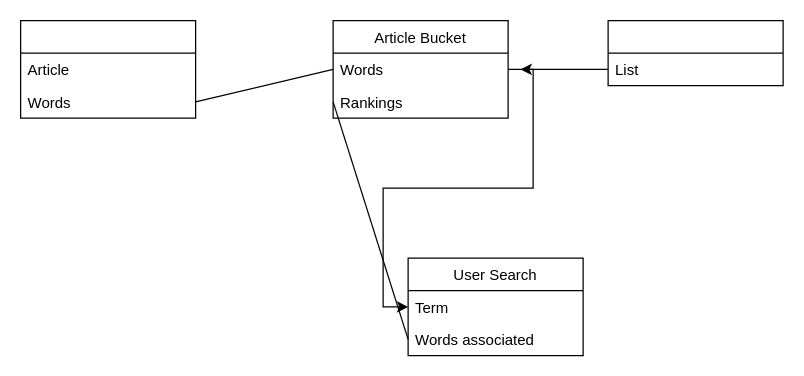
Some shapes in this 804 by 376 pixel diagram are drawn without their labels. The box of each missing label's shape, as (x1, y1, x2, y2) in pixels:
Proscribed Words: (607, 19, 783, 86)
Webpage: (19, 19, 196, 118)
